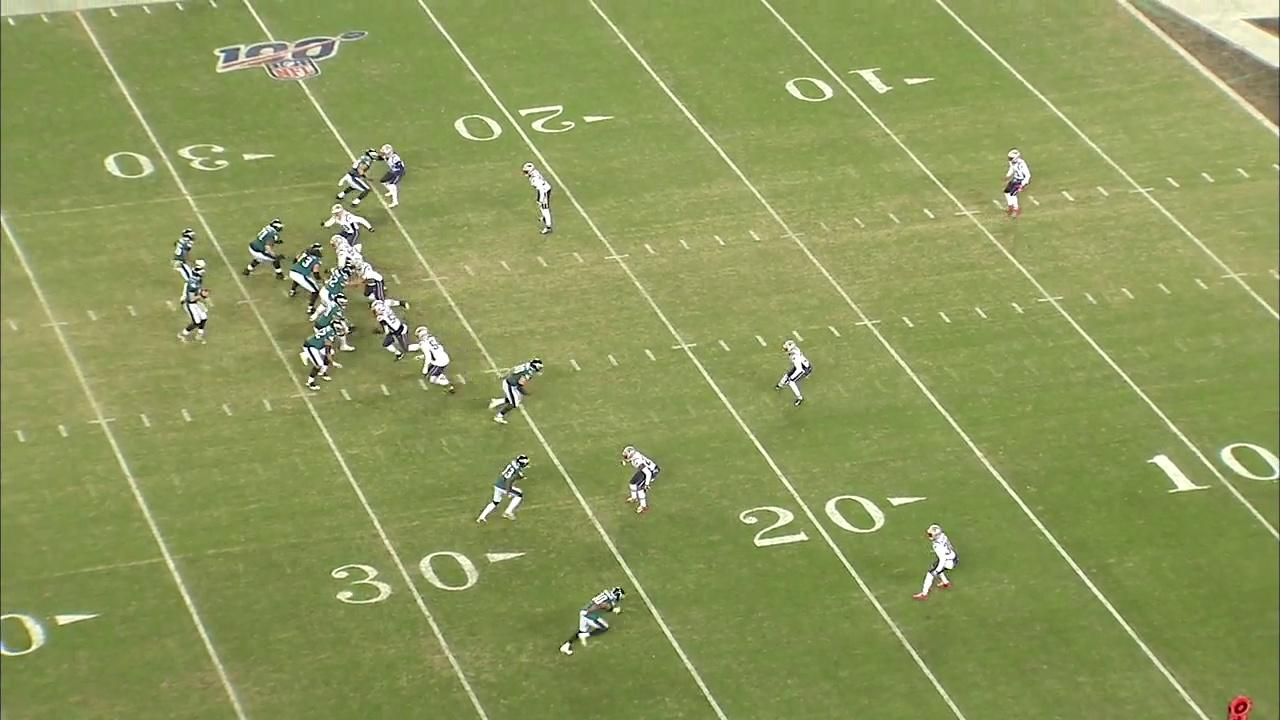defense: (910, 521, 961, 603), (410, 325, 459, 396), (370, 298, 420, 365), (352, 257, 411, 312), (772, 338, 815, 410), (619, 443, 662, 515), (318, 203, 378, 247), (521, 161, 555, 236), (999, 147, 1032, 222), (377, 143, 411, 209), (328, 231, 365, 269)
oline: (298, 292, 357, 368), (301, 320, 346, 394), (241, 217, 290, 283), (306, 263, 359, 323), (287, 243, 327, 315)
qb: (174, 263, 213, 348)
skill: (558, 584, 627, 658), (475, 451, 532, 526), (485, 355, 544, 426), (335, 146, 385, 208), (169, 226, 200, 283)
